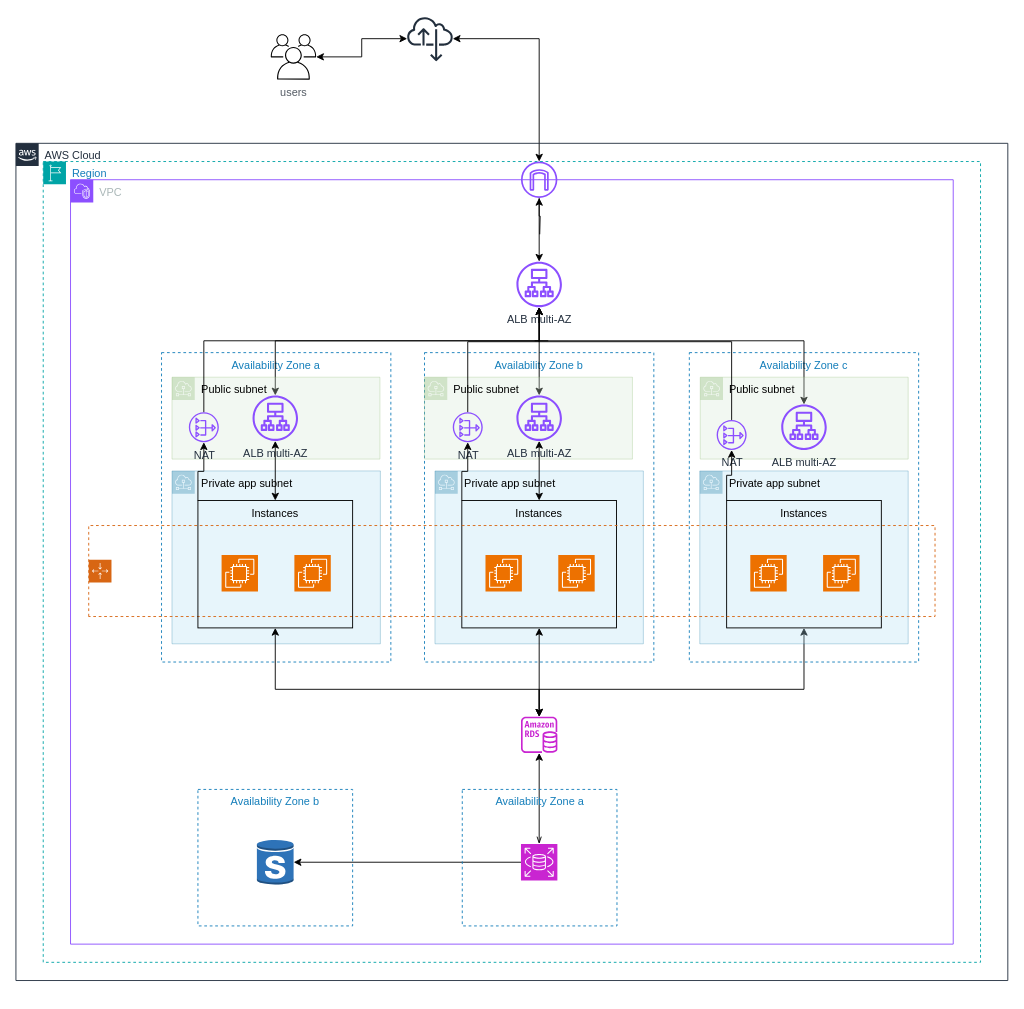
This 1024x1009 diagram has some shape labels left out. The shapes that lost their labels are listed below. From the top down, each one's box as (x1, y1, x2, y2) in pixels, then its label:
(407, 15, 452, 61): Internet
(521, 161, 557, 197): IGW
(88, 525, 935, 617): Auto Scaling group
(521, 716, 557, 753): RDS endpoint
(256, 839, 294, 885): Standby db
(520, 843, 557, 880): RDS main db
